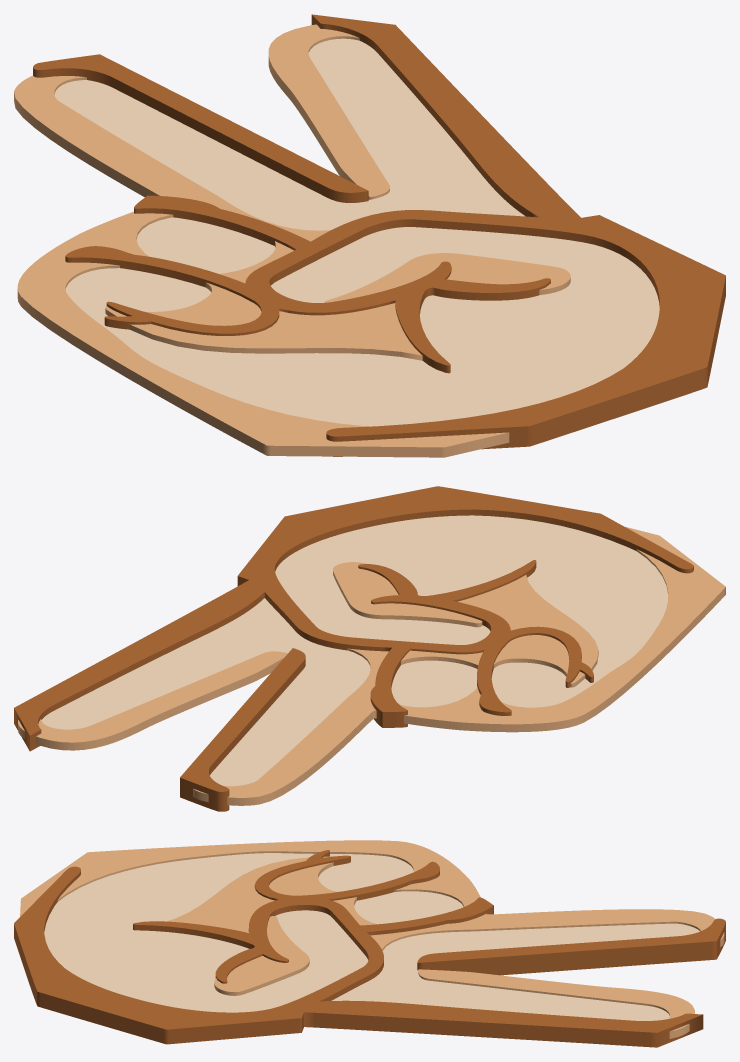
File: emoji_u270c_1f3fb.glb
The picture shows the model from 3 angles, top to bottom: view 1: azimuth 30°, elevation 25°; view 2: azimuth 150°, elevation 25°; view 3: azimuth 270°, elevation 25°; orthographic projection. The views are drawn at different scales.
Parts seen in each view (by area): view 1: emoji_u270c_1f3fb; view 2: emoji_u270c_1f3fb; view 3: emoji_u270c_1f3fb.
Part boxes in pixels (<box>): emoji_u270c_1f3fb: <box>14,14,725,457</box>; emoji_u270c_1f3fb: <box>14,486,725,811</box>; emoji_u270c_1f3fb: <box>14,840,725,1047</box>.
Size of the model in its own units: 0.0228 by 0.001 by 0.0349.
